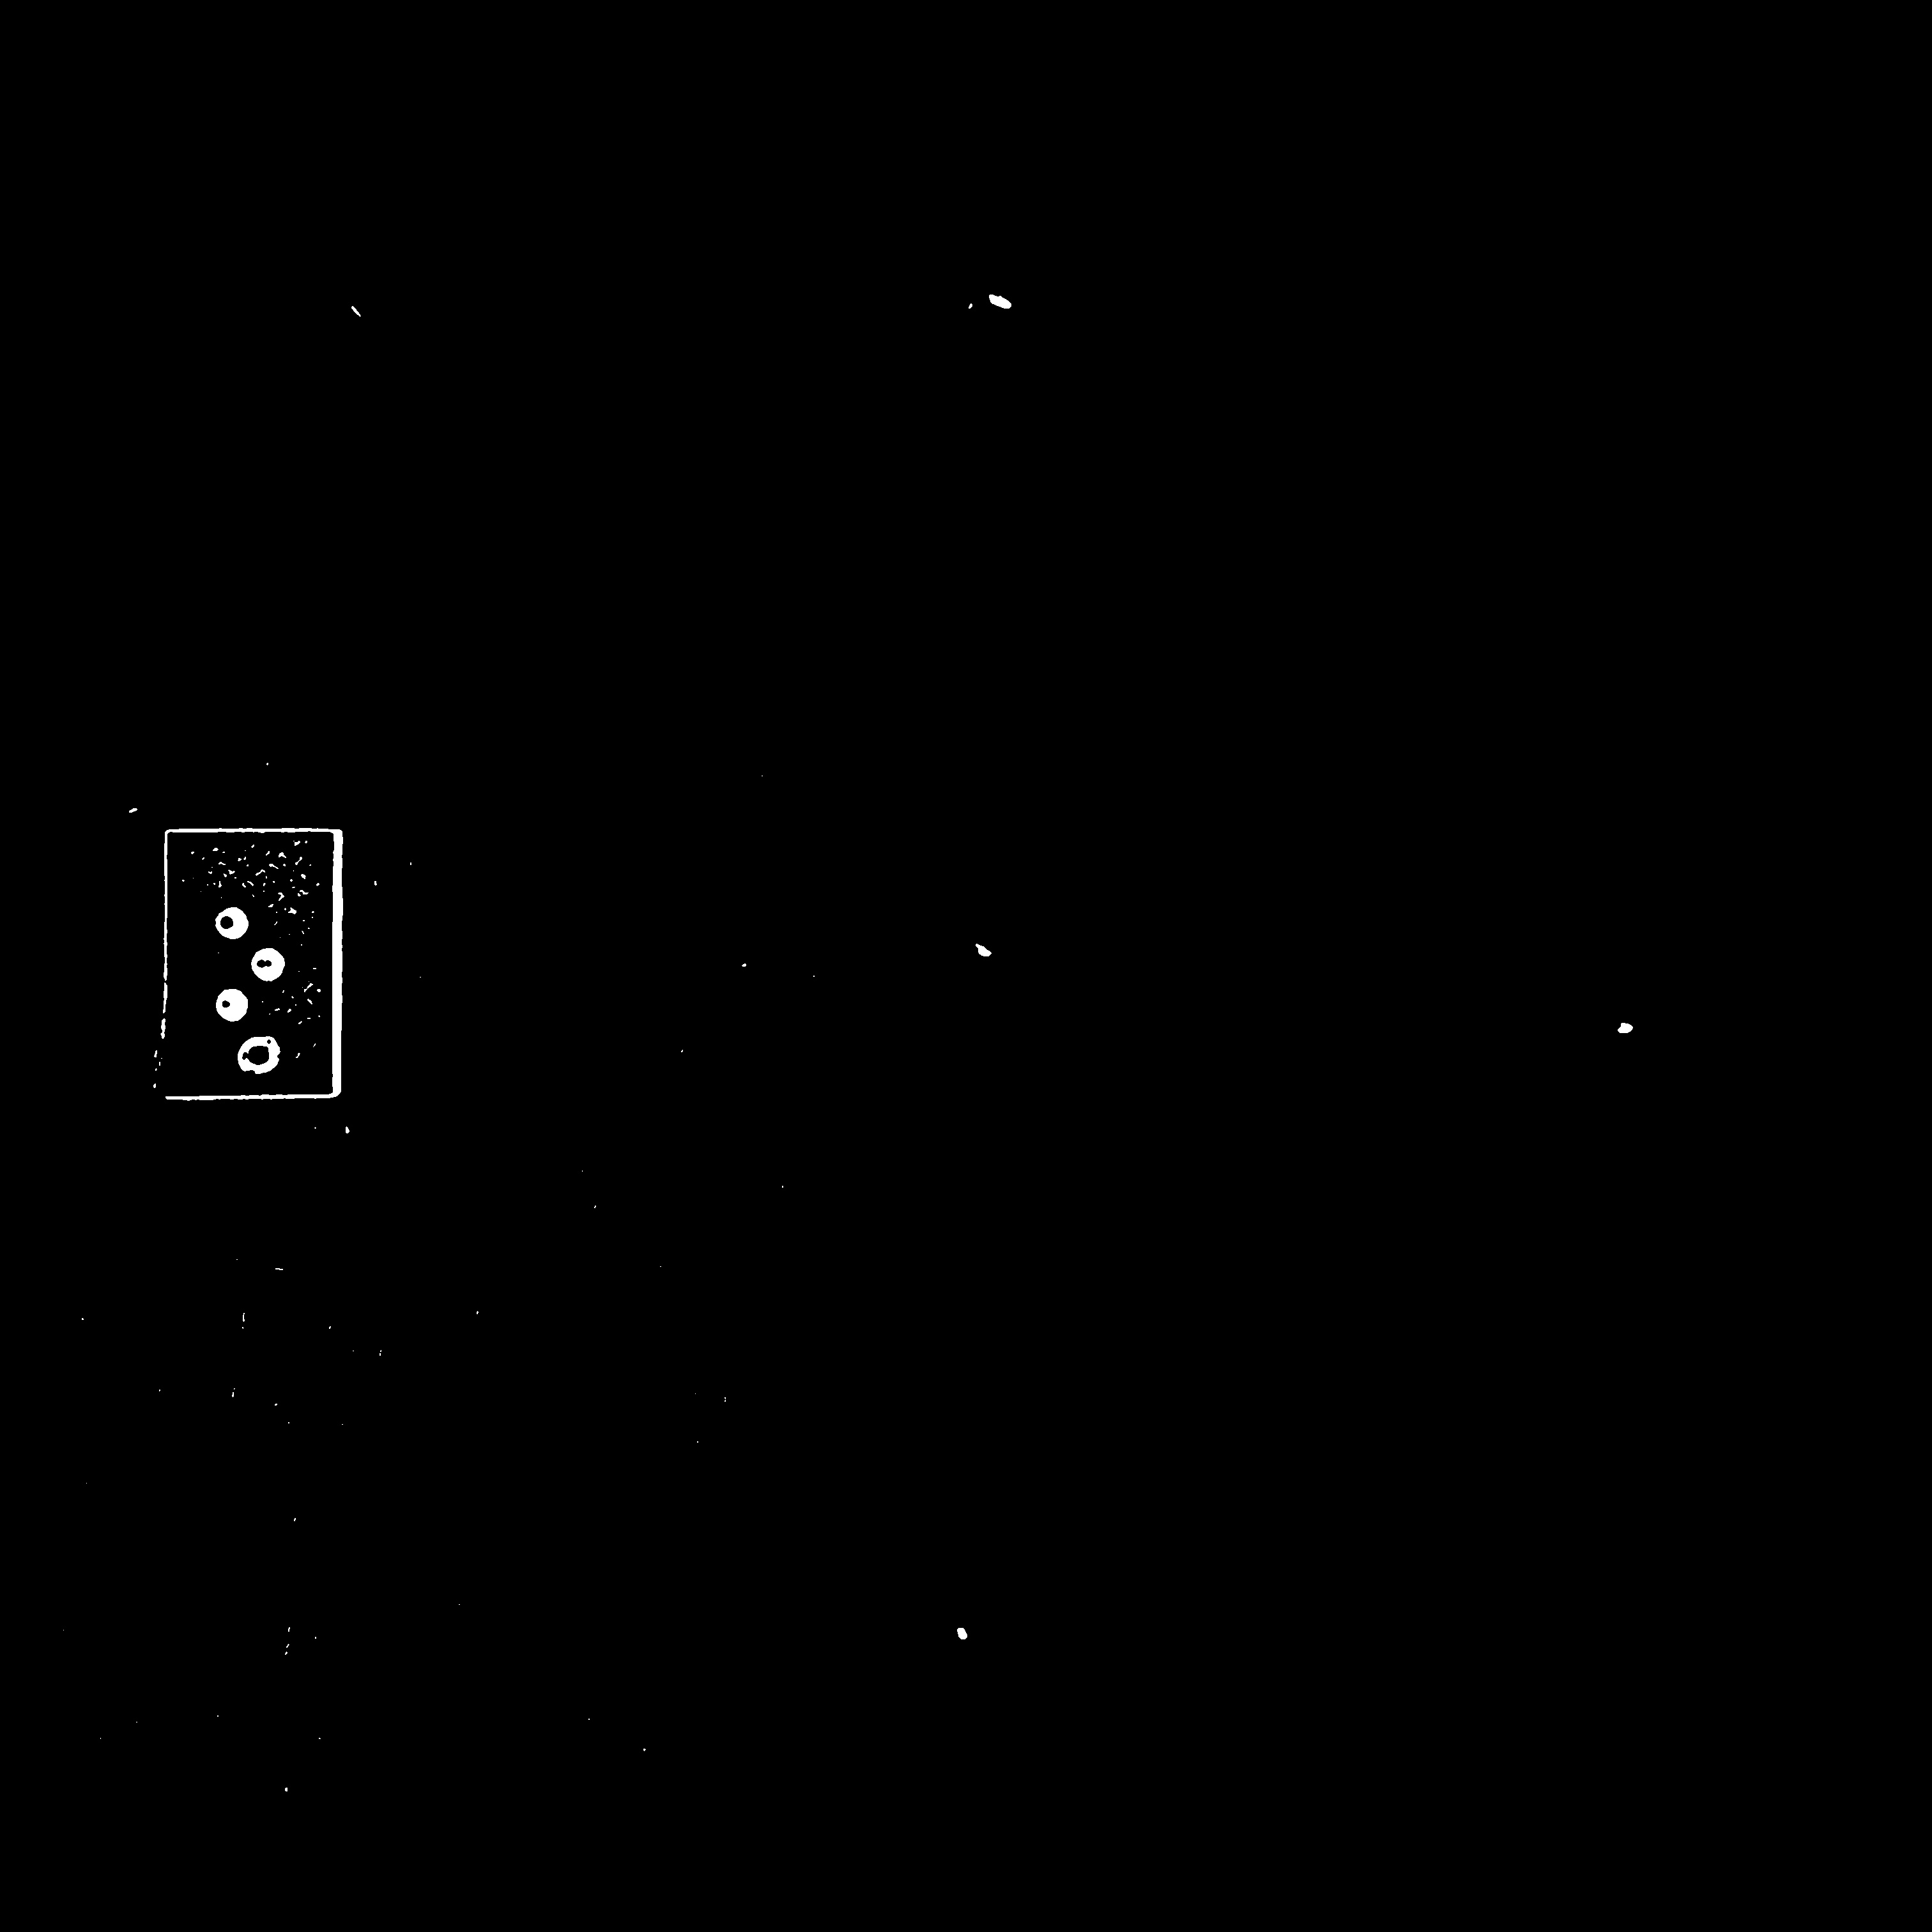o: (199, 897, 303, 1030)
